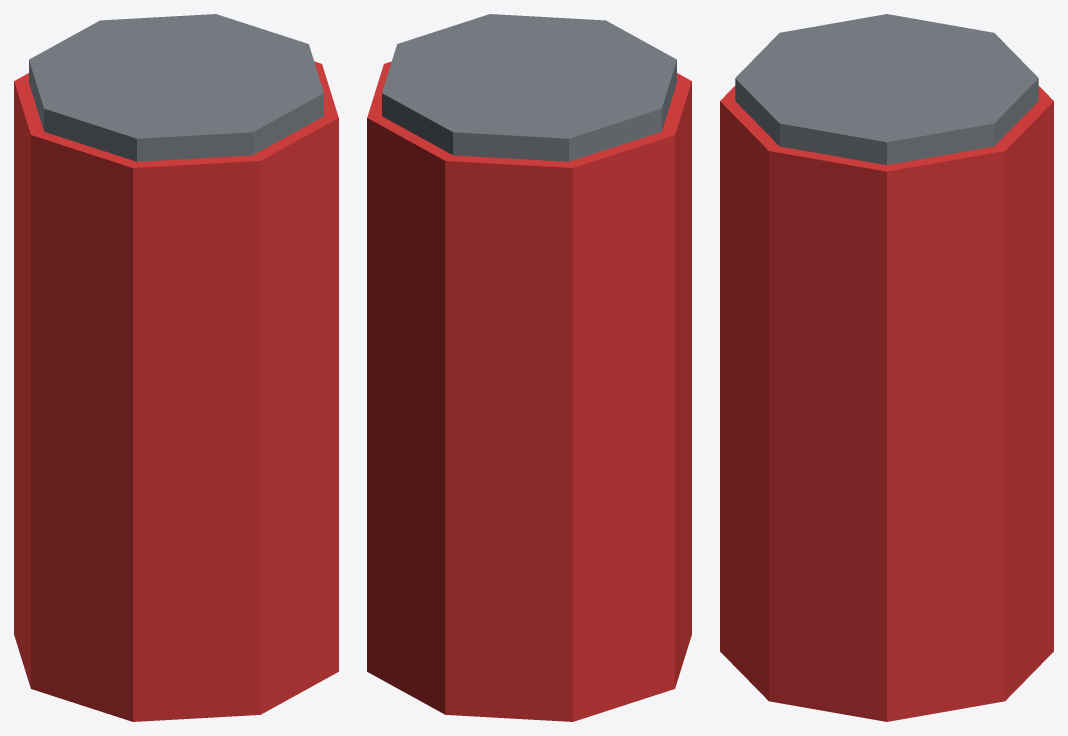
The model's file is Can.fbx.
3 renders of one model, left to right at view 1: azimuth 30°, elevation 25°; view 2: azimuth 150°, elevation 25°; view 3: azimuth 270°, elevation 25°, orthographic.
Parts seen in each view (by area): view 1: Can; view 2: Can; view 3: Can.
Boxes of the visible parts, bbox=[...] form: Can: bbox=[14, 14, 338, 721]; Can: bbox=[367, 14, 691, 721]; Can: bbox=[720, 14, 1053, 721].
Size of the model in its own units: 0.066 by 0.125 by 0.066.
